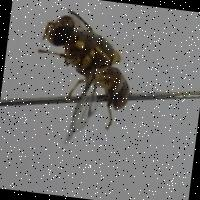Oriental-fruit-fly: (19, 0, 144, 154)
